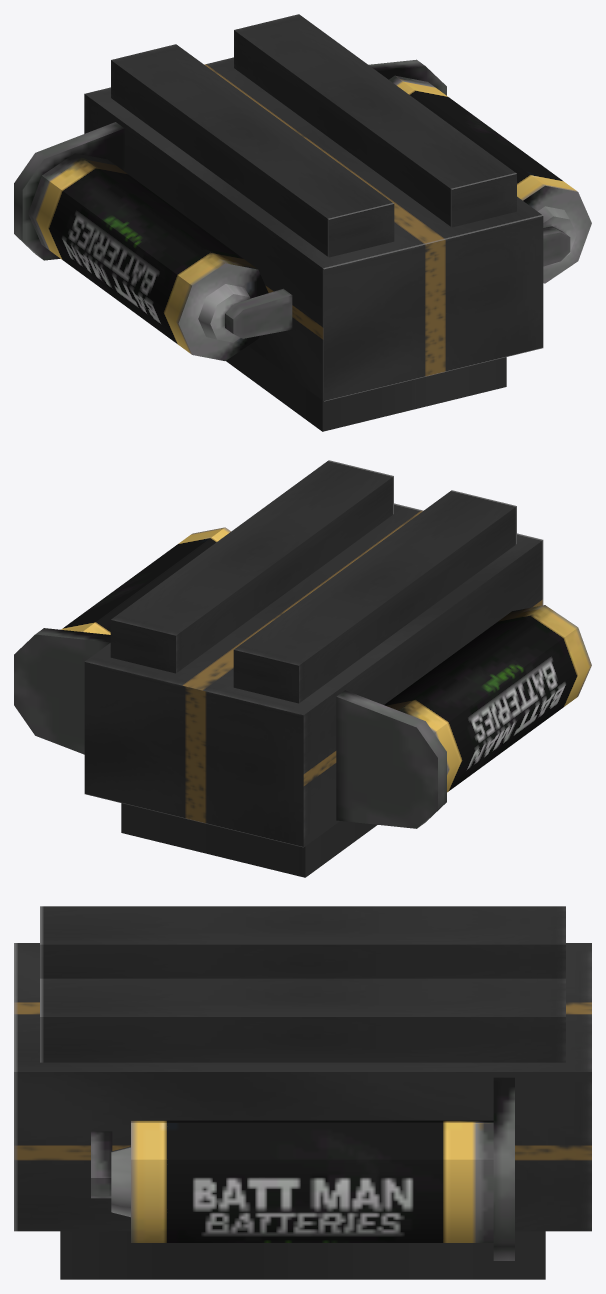
File: FuelCell.FBX
3 views of the same model, one above another, from view 1: azimuth 30°, elevation 25°; view 2: azimuth 150°, elevation 25°; view 3: azimuth 270°, elevation 25° (orthographic). The views are drawn at different scales.
Visible parts, largest first — view 1: AvionicsBox009, battery012, AvionicsBox010, AvionicsBox011, battery004; view 2: AvionicsBox009, battery012, AvionicsBox010, AvionicsBox011, battery004; view 3: AvionicsBox009, battery004, AvionicsBox011, AvionicsBox010.
Boxes of the visible parts, box(x1,y1,x2,y2) form: AvionicsBox009: box(84, 57, 543, 431); battery012: box(14, 122, 292, 360); AvionicsBox010: box(111, 44, 394, 257); AvionicsBox011: box(234, 14, 516, 227); battery004: box(368, 59, 591, 283); AvionicsBox009: box(84, 503, 543, 877); battery012: box(336, 605, 591, 828); AvionicsBox010: box(233, 490, 516, 703); AvionicsBox011: box(110, 460, 393, 673); battery004: box(14, 527, 230, 754); AvionicsBox009: box(14, 943, 591, 1279); battery004: box(91, 1077, 514, 1260); AvionicsBox011: box(40, 978, 565, 1062); AvionicsBox010: box(40, 906, 565, 978).
Size of what is drawn, in the model's own units: 0.437 by 0.2154 by 0.4278.
